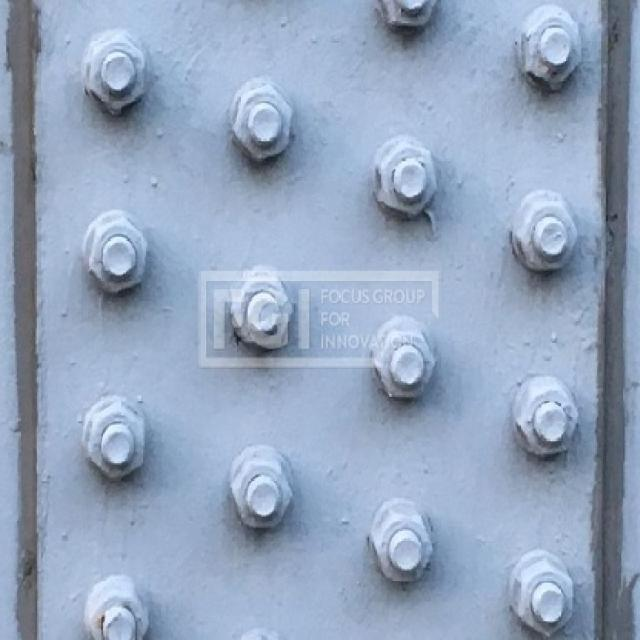Regular bolt: (507, 189, 588, 284), (499, 551, 584, 640), (502, 375, 583, 467), (80, 207, 159, 299), (363, 315, 444, 404), (514, 5, 590, 97), (364, 500, 444, 587), (225, 80, 301, 170), (228, 442, 301, 535), (81, 31, 155, 121), (373, 134, 440, 227), (82, 398, 156, 482), (225, 265, 295, 353), (81, 573, 161, 640)
